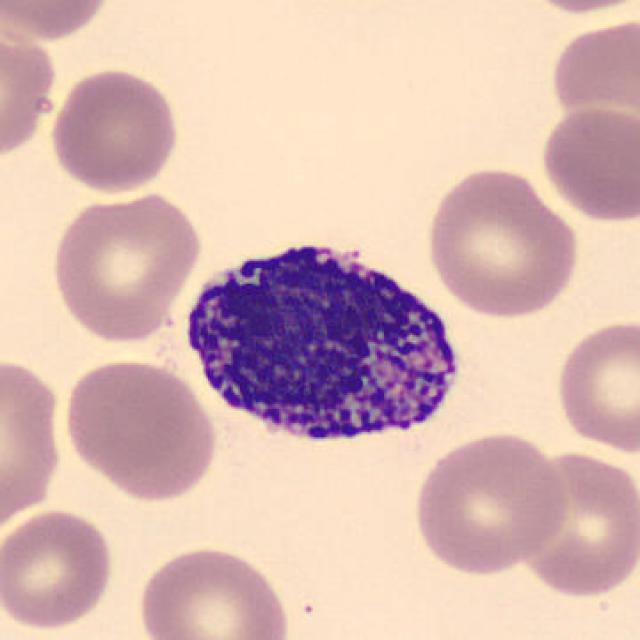Basophil: (171, 220, 473, 460)
RBC: (421, 164, 583, 321), (46, 187, 205, 344), (409, 427, 572, 578), (57, 353, 219, 492), (516, 446, 638, 603), (46, 65, 183, 196), (134, 541, 294, 640), (0, 506, 119, 633), (537, 100, 638, 226), (0, 349, 66, 540), (551, 314, 638, 456), (546, 14, 640, 116), (0, 14, 62, 164), (0, 0, 116, 44), (514, 0, 640, 16)
